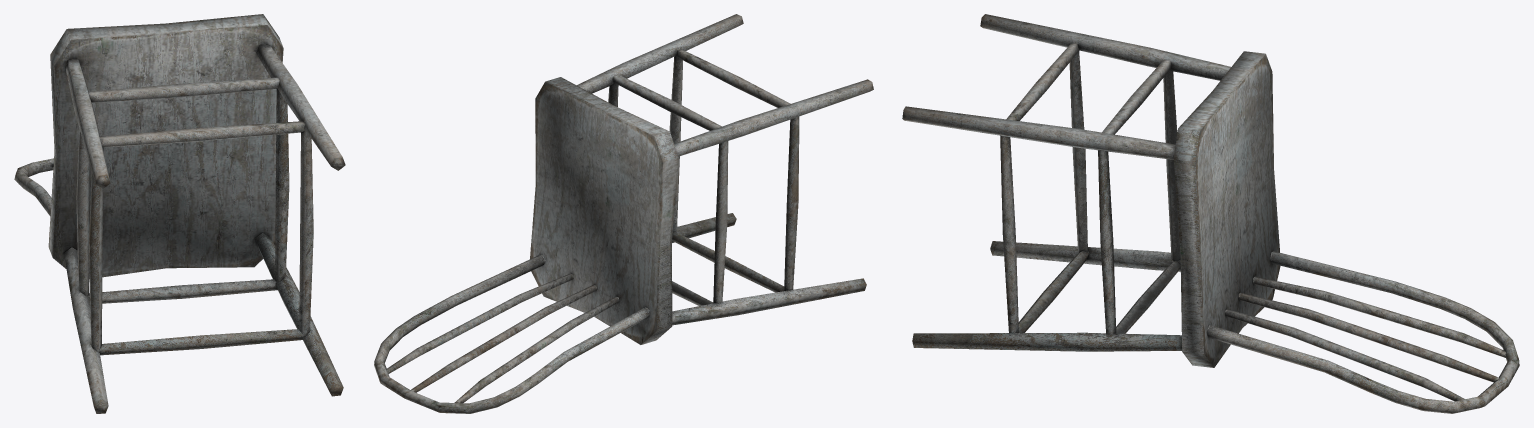
File: стул.fbx
3 renders of one model, left to right at view 1: azimuth 30°, elevation 25°; view 2: azimuth 150°, elevation 25°; view 3: azimuth 270°, elevation 25°, orthographic. The views are drawn at different scales.
Visible parts, largest first — view 1: Chair; view 2: Chair; view 3: Chair.
Part boxes in pixels (left/top/right/bottom): Chair: left=14, top=14, right=345, bottom=413; Chair: left=374, top=14, right=873, bottom=413; Chair: left=902, top=14, right=1519, bottom=413.
Size of the model in its own units: 68.8 by 48.6 by 106.
Materials: 1 (1 with a texture image).
